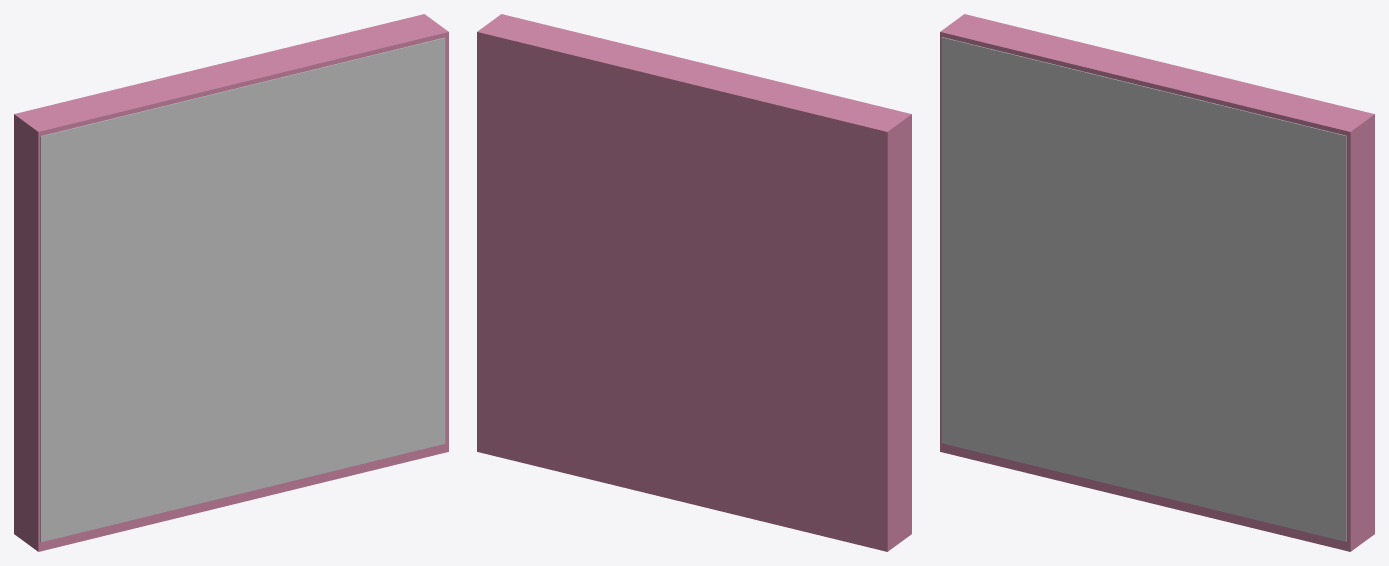
The model's file is ind_bld_tin_01_shed_b_rollerdoor.dae.
The picture shows the model from 3 angles, left to right: view 1: azimuth 30°, elevation 25°; view 2: azimuth 150°, elevation 25°; view 3: azimuth 330°, elevation 25°; orthographic projection.
Visible parts, largest first — view 1: Colmesh-1, Untitled; view 2: Untitled; view 3: Colmesh-1, Untitled.
Part boxes in pixels (box(x1,y1,x2,y2)): Colmesh-1: box(40, 37, 445, 542); Untitled: box(14, 14, 448, 551); Untitled: box(477, 14, 911, 551); Colmesh-1: box(941, 37, 1346, 541); Untitled: box(940, 14, 1374, 551).
Size of the model in its own units: 6.95 by 0.7293 by 6.79.
